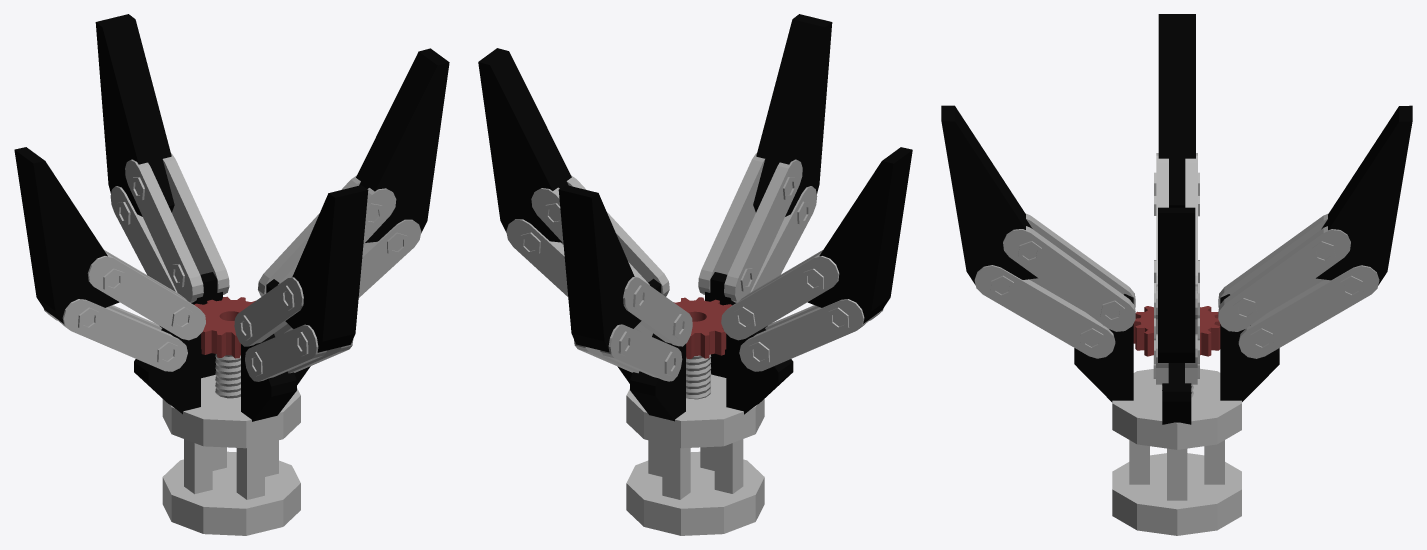
Rendered from Hand_without_Animation.fbx.
The picture shows the model from 3 angles, left to right: view 1: azimuth 30°, elevation 25°; view 2: azimuth 150°, elevation 25°; view 3: azimuth 270°, elevation 25°; orthographic projection.
Visible parts, largest first — view 1: pCube5, polySurface99, polySurface83, polySurface61, polySurface39, polySurface28, polySurface50, polySurface109, polySurface77, polySurface27, polySurface49, pGear1 (+2 smaller); view 2: pCube5, polySurface83, polySurface109, polySurface61, polySurface50, polySurface28, polySurface39, polySurface99, polySurface77, polySurface27, polySurface38, pGear1 (+2 smaller); view 3: pCube5, polySurface109, polySurface99, polySurface39, polySurface50, polySurface28, polySurface61, polySurface49, polySurface38, polySurface83, pGear1, polySurface60 (+1 smaller).
Boxes of the visible parts, x1,y1,x2,y2 form: pCube5: (162, 375, 300, 535); polySurface99: (110, 153, 229, 302); polySurface83: (43, 250, 205, 371); polySurface61: (356, 48, 449, 242); polySurface39: (95, 14, 174, 216); polySurface28: (14, 147, 119, 323); polySurface50: (285, 185, 368, 352); polySurface109: (234, 277, 353, 381); polySurface77: (258, 175, 421, 297); polySurface27: (134, 326, 200, 414); polySurface49: (241, 334, 296, 421); pGear1: (194, 296, 255, 358); pCube5: (626, 374, 764, 535); polySurface83: (721, 250, 883, 371); polySurface109: (698, 153, 817, 302); polySurface61: (478, 48, 571, 242); polySurface50: (753, 14, 832, 216); polySurface28: (807, 147, 912, 323); polySurface39: (558, 185, 641, 352); polySurface99: (574, 277, 692, 381); polySurface77: (506, 175, 669, 296); polySurface27: (726, 326, 793, 414); polySurface38: (630, 333, 685, 421); pGear1: (673, 297, 732, 358); pCube5: (1112, 368, 1241, 535); polySurface109: (974, 213, 1135, 358); polySurface99: (1218, 214, 1379, 358); polySurface39: (1316, 105, 1412, 285); polySurface50: (941, 105, 1037, 284); polySurface28: (1158, 14, 1195, 207); polySurface61: (1158, 207, 1195, 362); polySurface49: (1074, 294, 1133, 402); polySurface38: (1220, 294, 1279, 401); polySurface83: (1154, 153, 1199, 293); pGear1: (1133, 306, 1220, 356); polySurface60: (1162, 363, 1191, 424).
Bounding box in the file's own units: 8.84 × 8.15 × 8.84.
